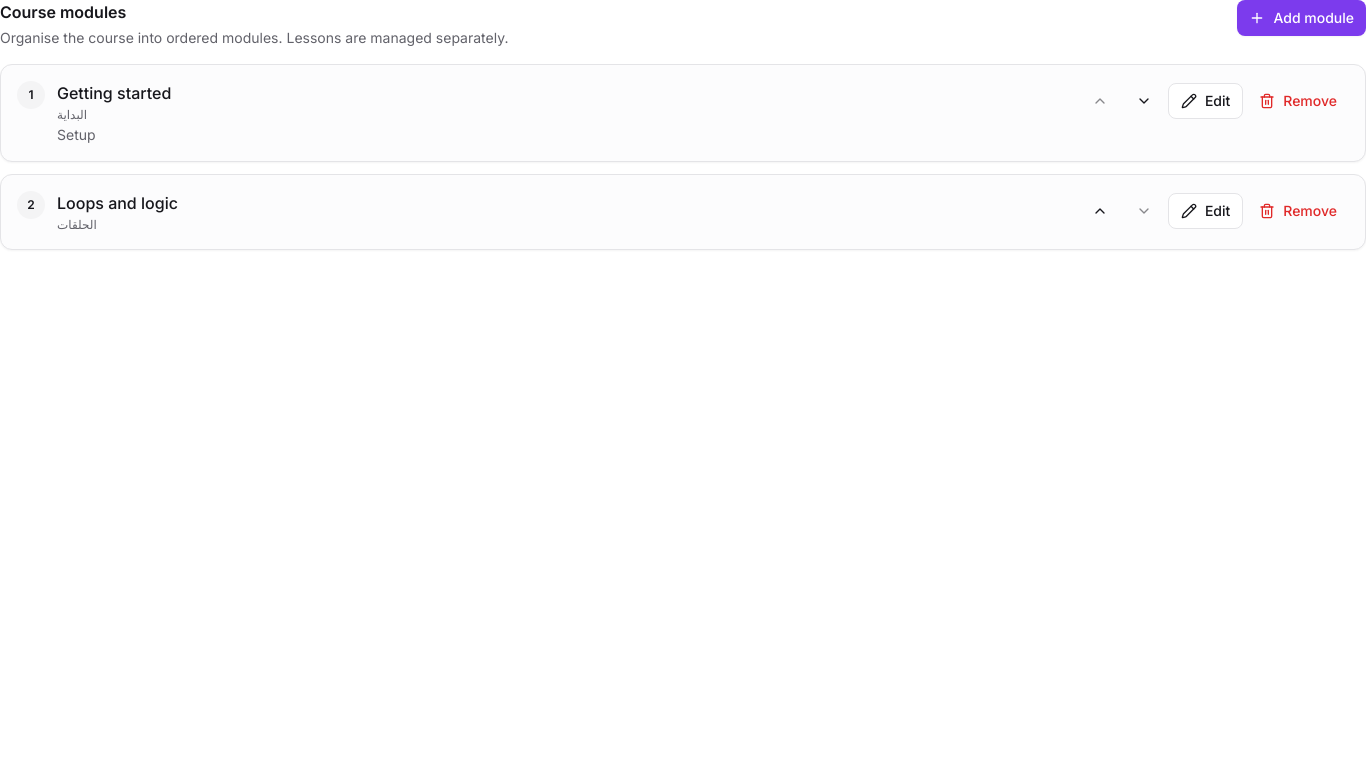
Scenario: ModulesManager › opens the add dialog and submits a new module with the rowVersion
Click the button "Add module": (1302, 18) [1237, 0, 1365, 36]
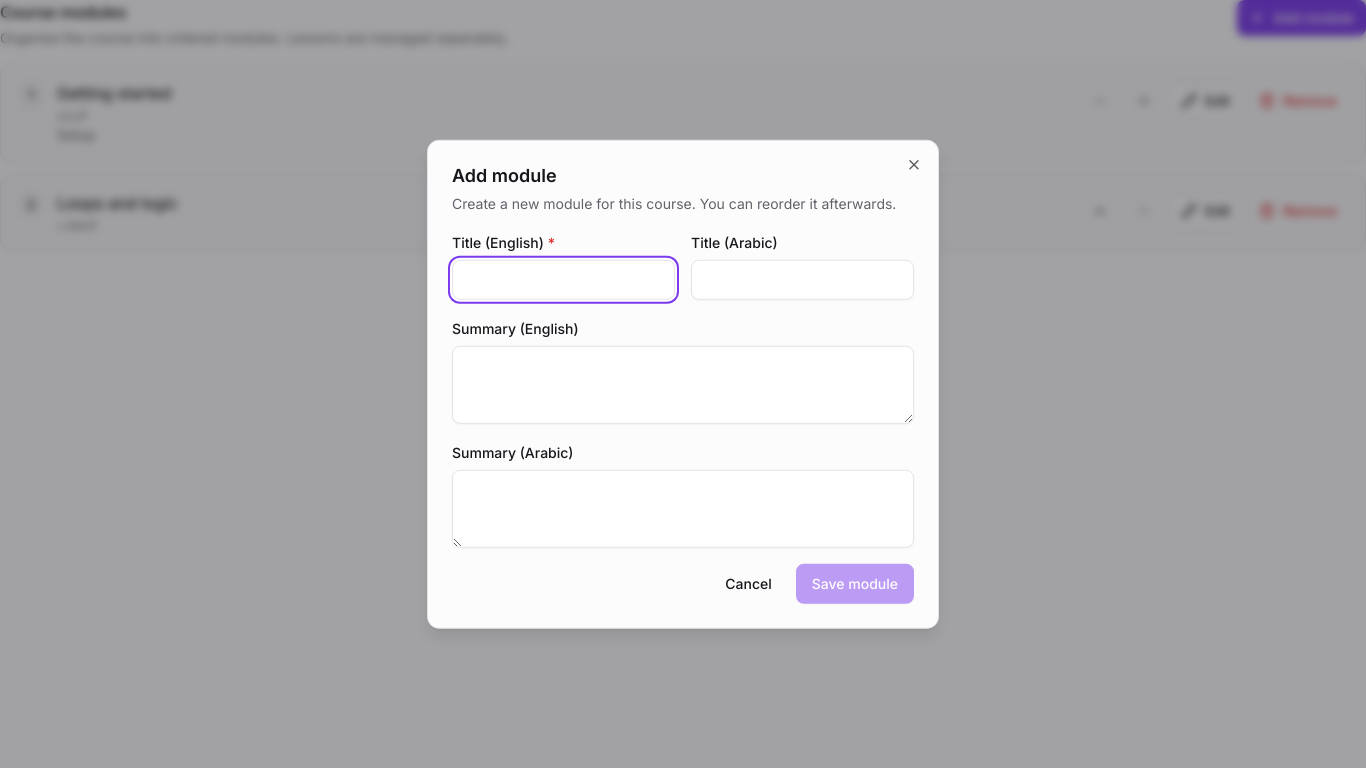
Check: the heading "Add module" is shown, box [452, 165, 557, 186]
In the field labelled "Title (English)*": (564, 279) [452, 259, 675, 299], type "New module"
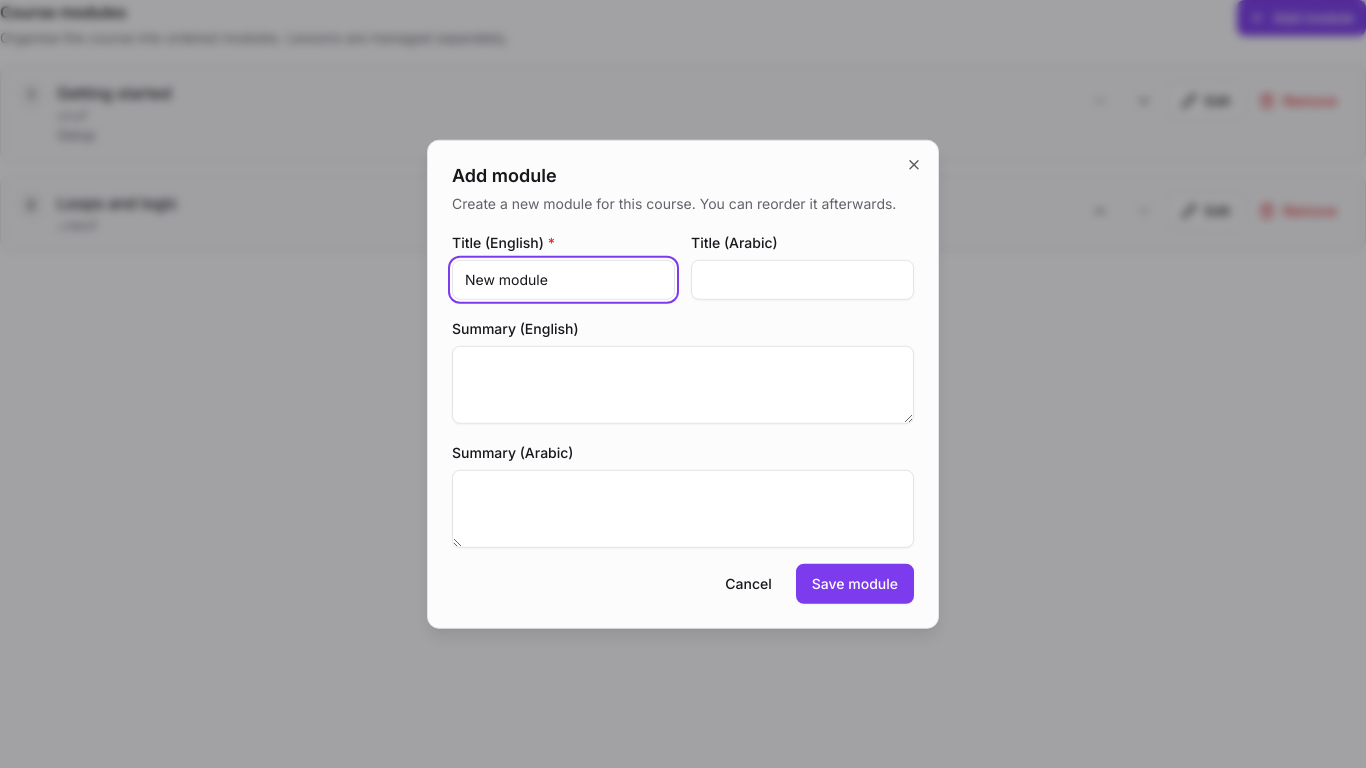
Click the button "Save module": (855, 583) [796, 563, 914, 603]
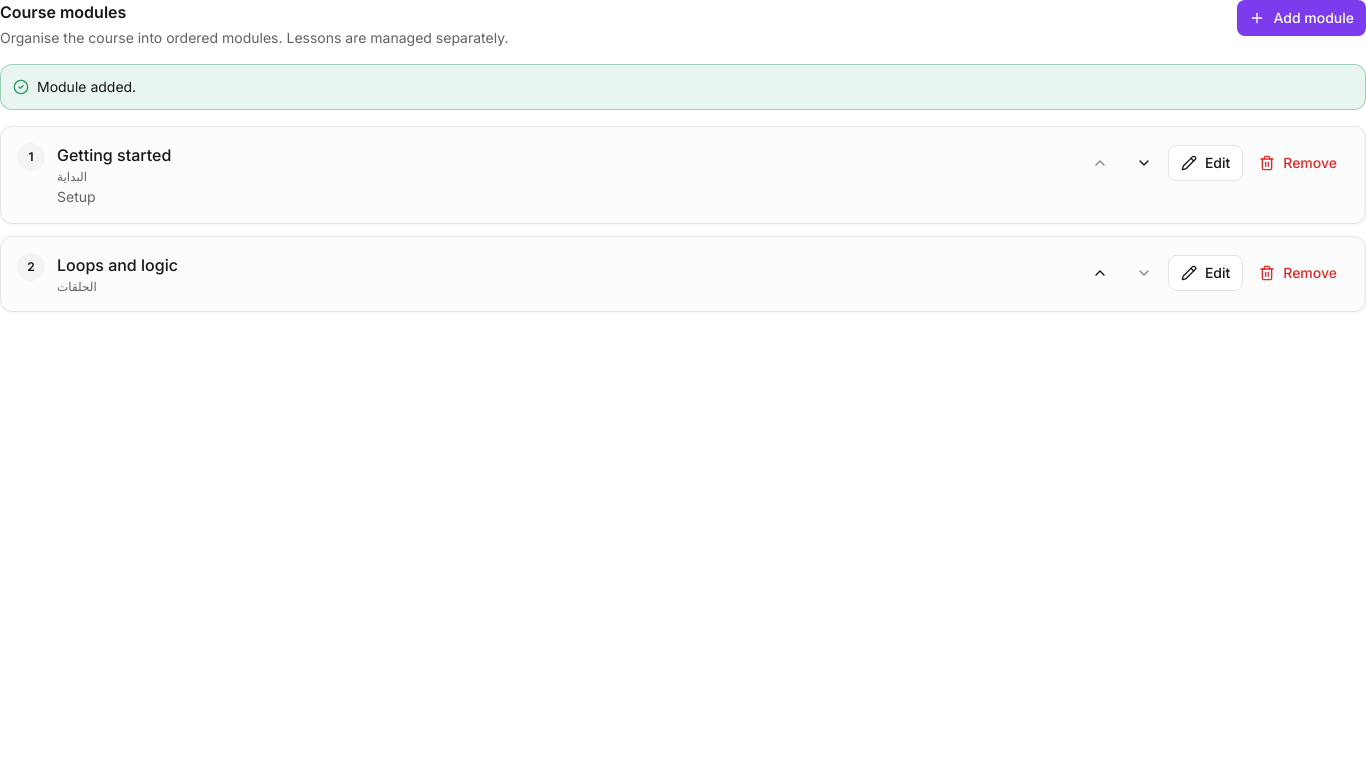
Check: the text "Module added." is shown, box [0, 64, 1365, 110]
